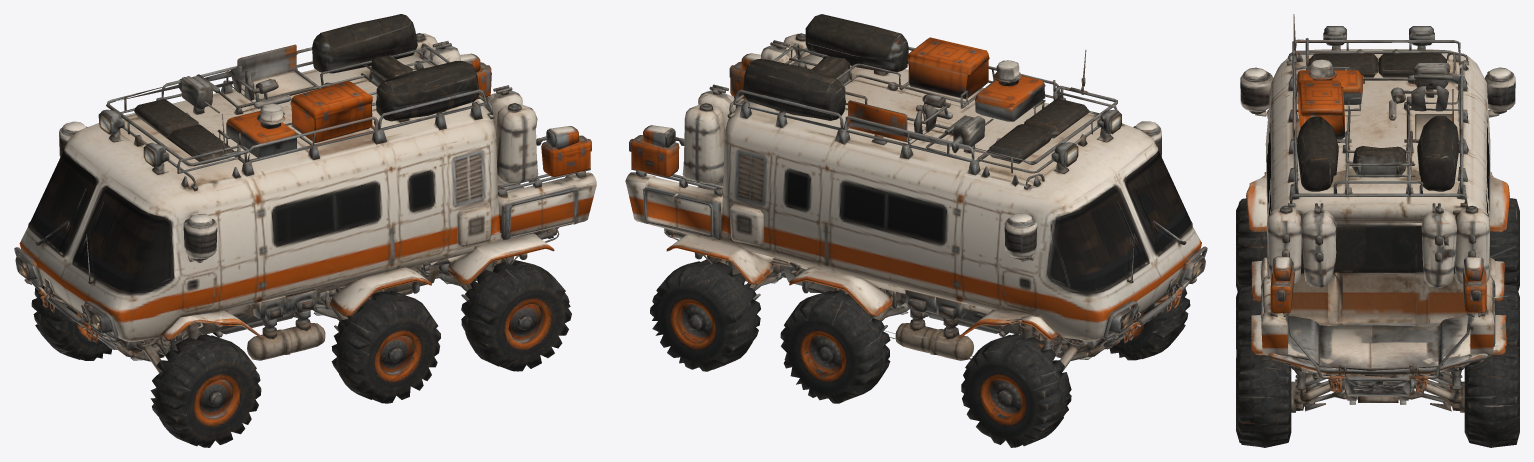
The model's file is Rover_T25.glb.
3 renders of one model, left to right at view 1: azimuth 30°, elevation 25°; view 2: azimuth 150°, elevation 25°; view 3: azimuth 270°, elevation 25°, orthographic. The views are drawn at different scales.
Size of the model in its own units: 0.9531 by 0.5806 by 0.4995.
1 material, 1 textured.
